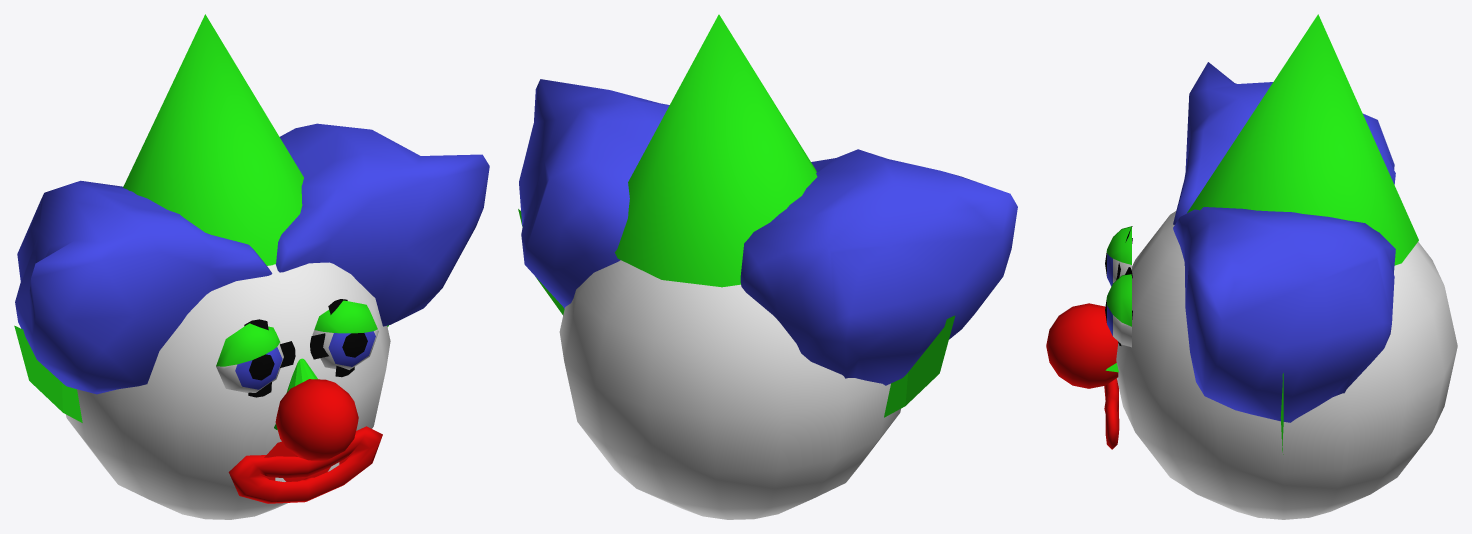
The model's file is clown.gltf.
The picture shows the model from 3 angles, left to right: view 1: azimuth 30°, elevation 25°; view 2: azimuth 150°, elevation 25°; view 3: azimuth 270°, elevation 25°; orthographic projection. The views are drawn at different scales.
Parts seen in each view (by area): view 1: ClownHat, Head, GoblinEyes, ClownMouth, ClownNose, GoblinHat, ClownEyes, GoblinMouth; view 2: ClownHat, Head, GoblinHat; view 3: ClownHat, Head, ClownNose, GoblinEyes, ClownMouth.
Part boxes in pixels (x1=…): ClownHat: x1=15, y1=14, x2=489, y2=394; Head: x1=66, y1=262, x2=390, y2=519; GoblinEyes: x1=216, y1=300, x2=378, y2=392; ClownMouth: x1=228, y1=426, x2=382, y2=503; ClownNose: x1=275, y1=379, x2=358, y2=460; GoblinHat: x1=14, y1=325, x2=388, y2=422; ClownEyes: x1=244, y1=299, x2=354, y2=397; GoblinMouth: x1=259, y1=441, x2=355, y2=481; ClownHat: x1=519, y1=14, x2=1017, y2=385; Head: x1=559, y1=260, x2=900, y2=519; GoblinHat: x1=518, y1=209, x2=955, y2=417; ClownHat: x1=1173, y1=14, x2=1418, y2=422; Head: x1=1116, y1=211, x2=1457, y2=519; ClownNose: x1=1046, y1=303, x2=1118, y2=388; GoblinEyes: x1=1105, y1=226, x2=1131, y2=347; ClownMouth: x1=1104, y1=378, x2=1119, y2=449.
Size of the model in its own units: 3.12 by 3.11 by 2.37.
